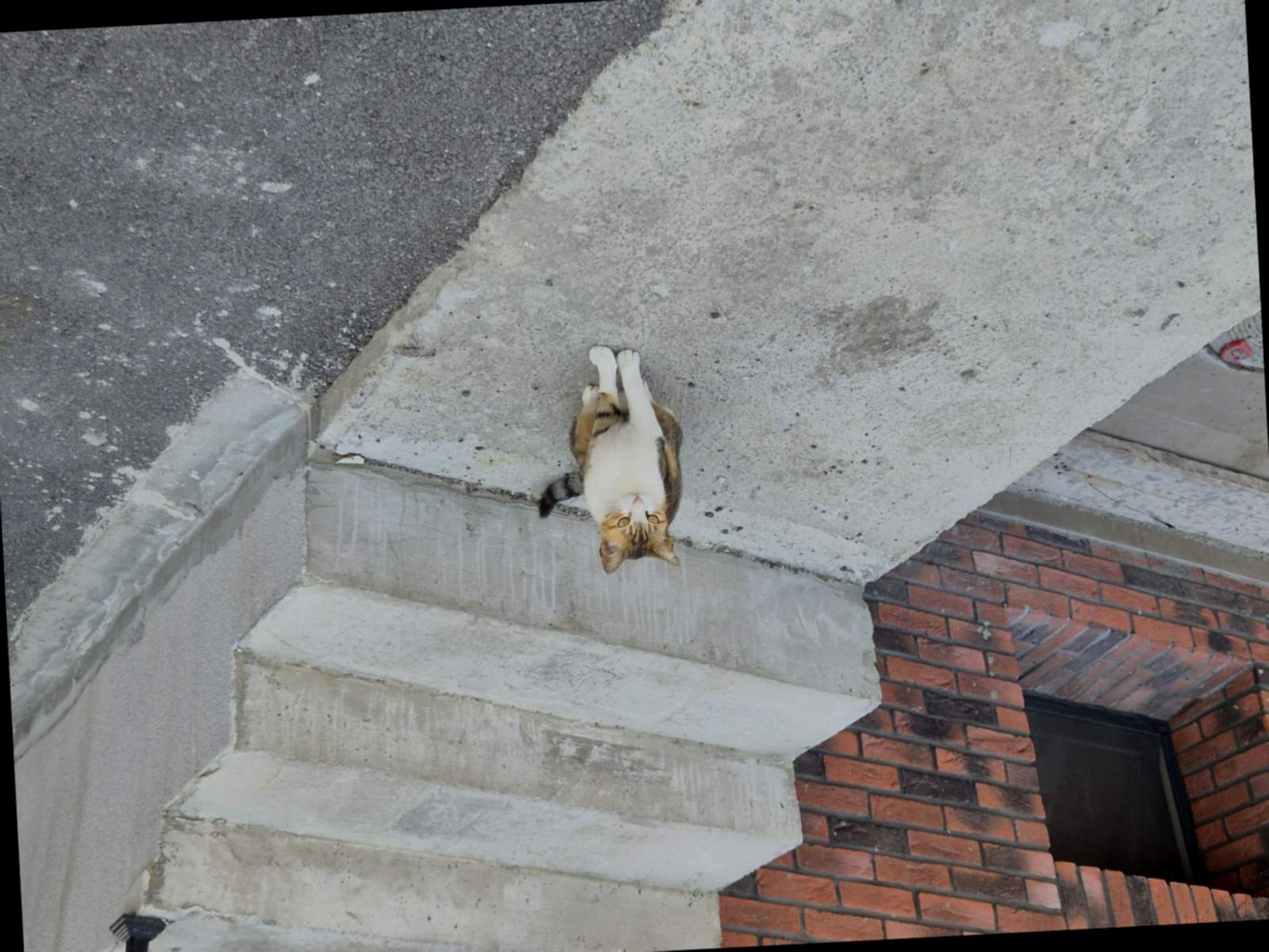macka: (531, 340, 689, 580)
